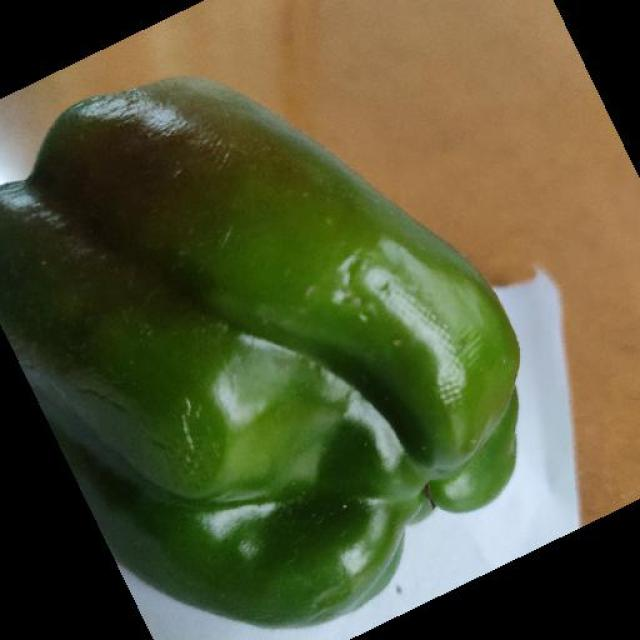Stale_Capsicum: (0, 107, 405, 605)
